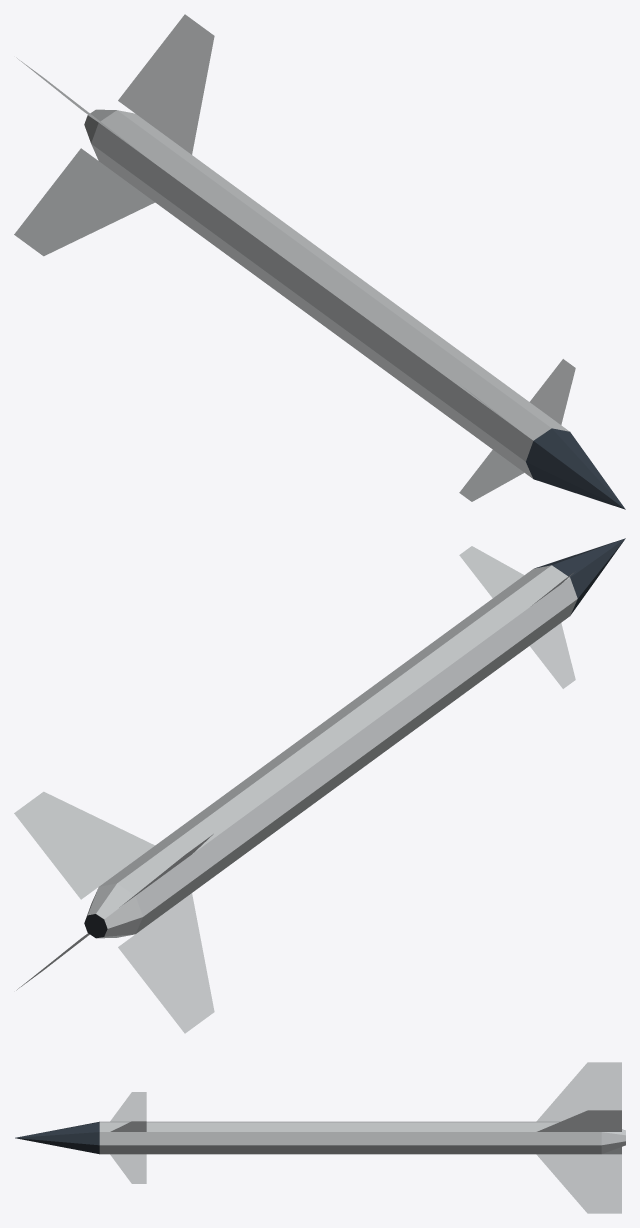
The model's file is missile_ir_large.glb.
3 views of the same model, one above another, from view 1: azimuth 30°, elevation 25°; view 2: azimuth 150°, elevation 25°; view 3: azimuth 270°, elevation 25° (orthographic). The views are drawn at different scales.
Parts seen in each view (by area): view 1: missile_ir_large; view 2: missile_ir_large; view 3: missile_ir_large.
Part boxes in pixels (x1=…): missile_ir_large: x1=14, y1=14, x2=625, y2=509; missile_ir_large: x1=14, y1=538, x2=625, y2=1033; missile_ir_large: x1=15, y1=1062, x2=625, y2=1213.
Bounding box in the file's own units: 0.5585 × 0.5585 × 3.
